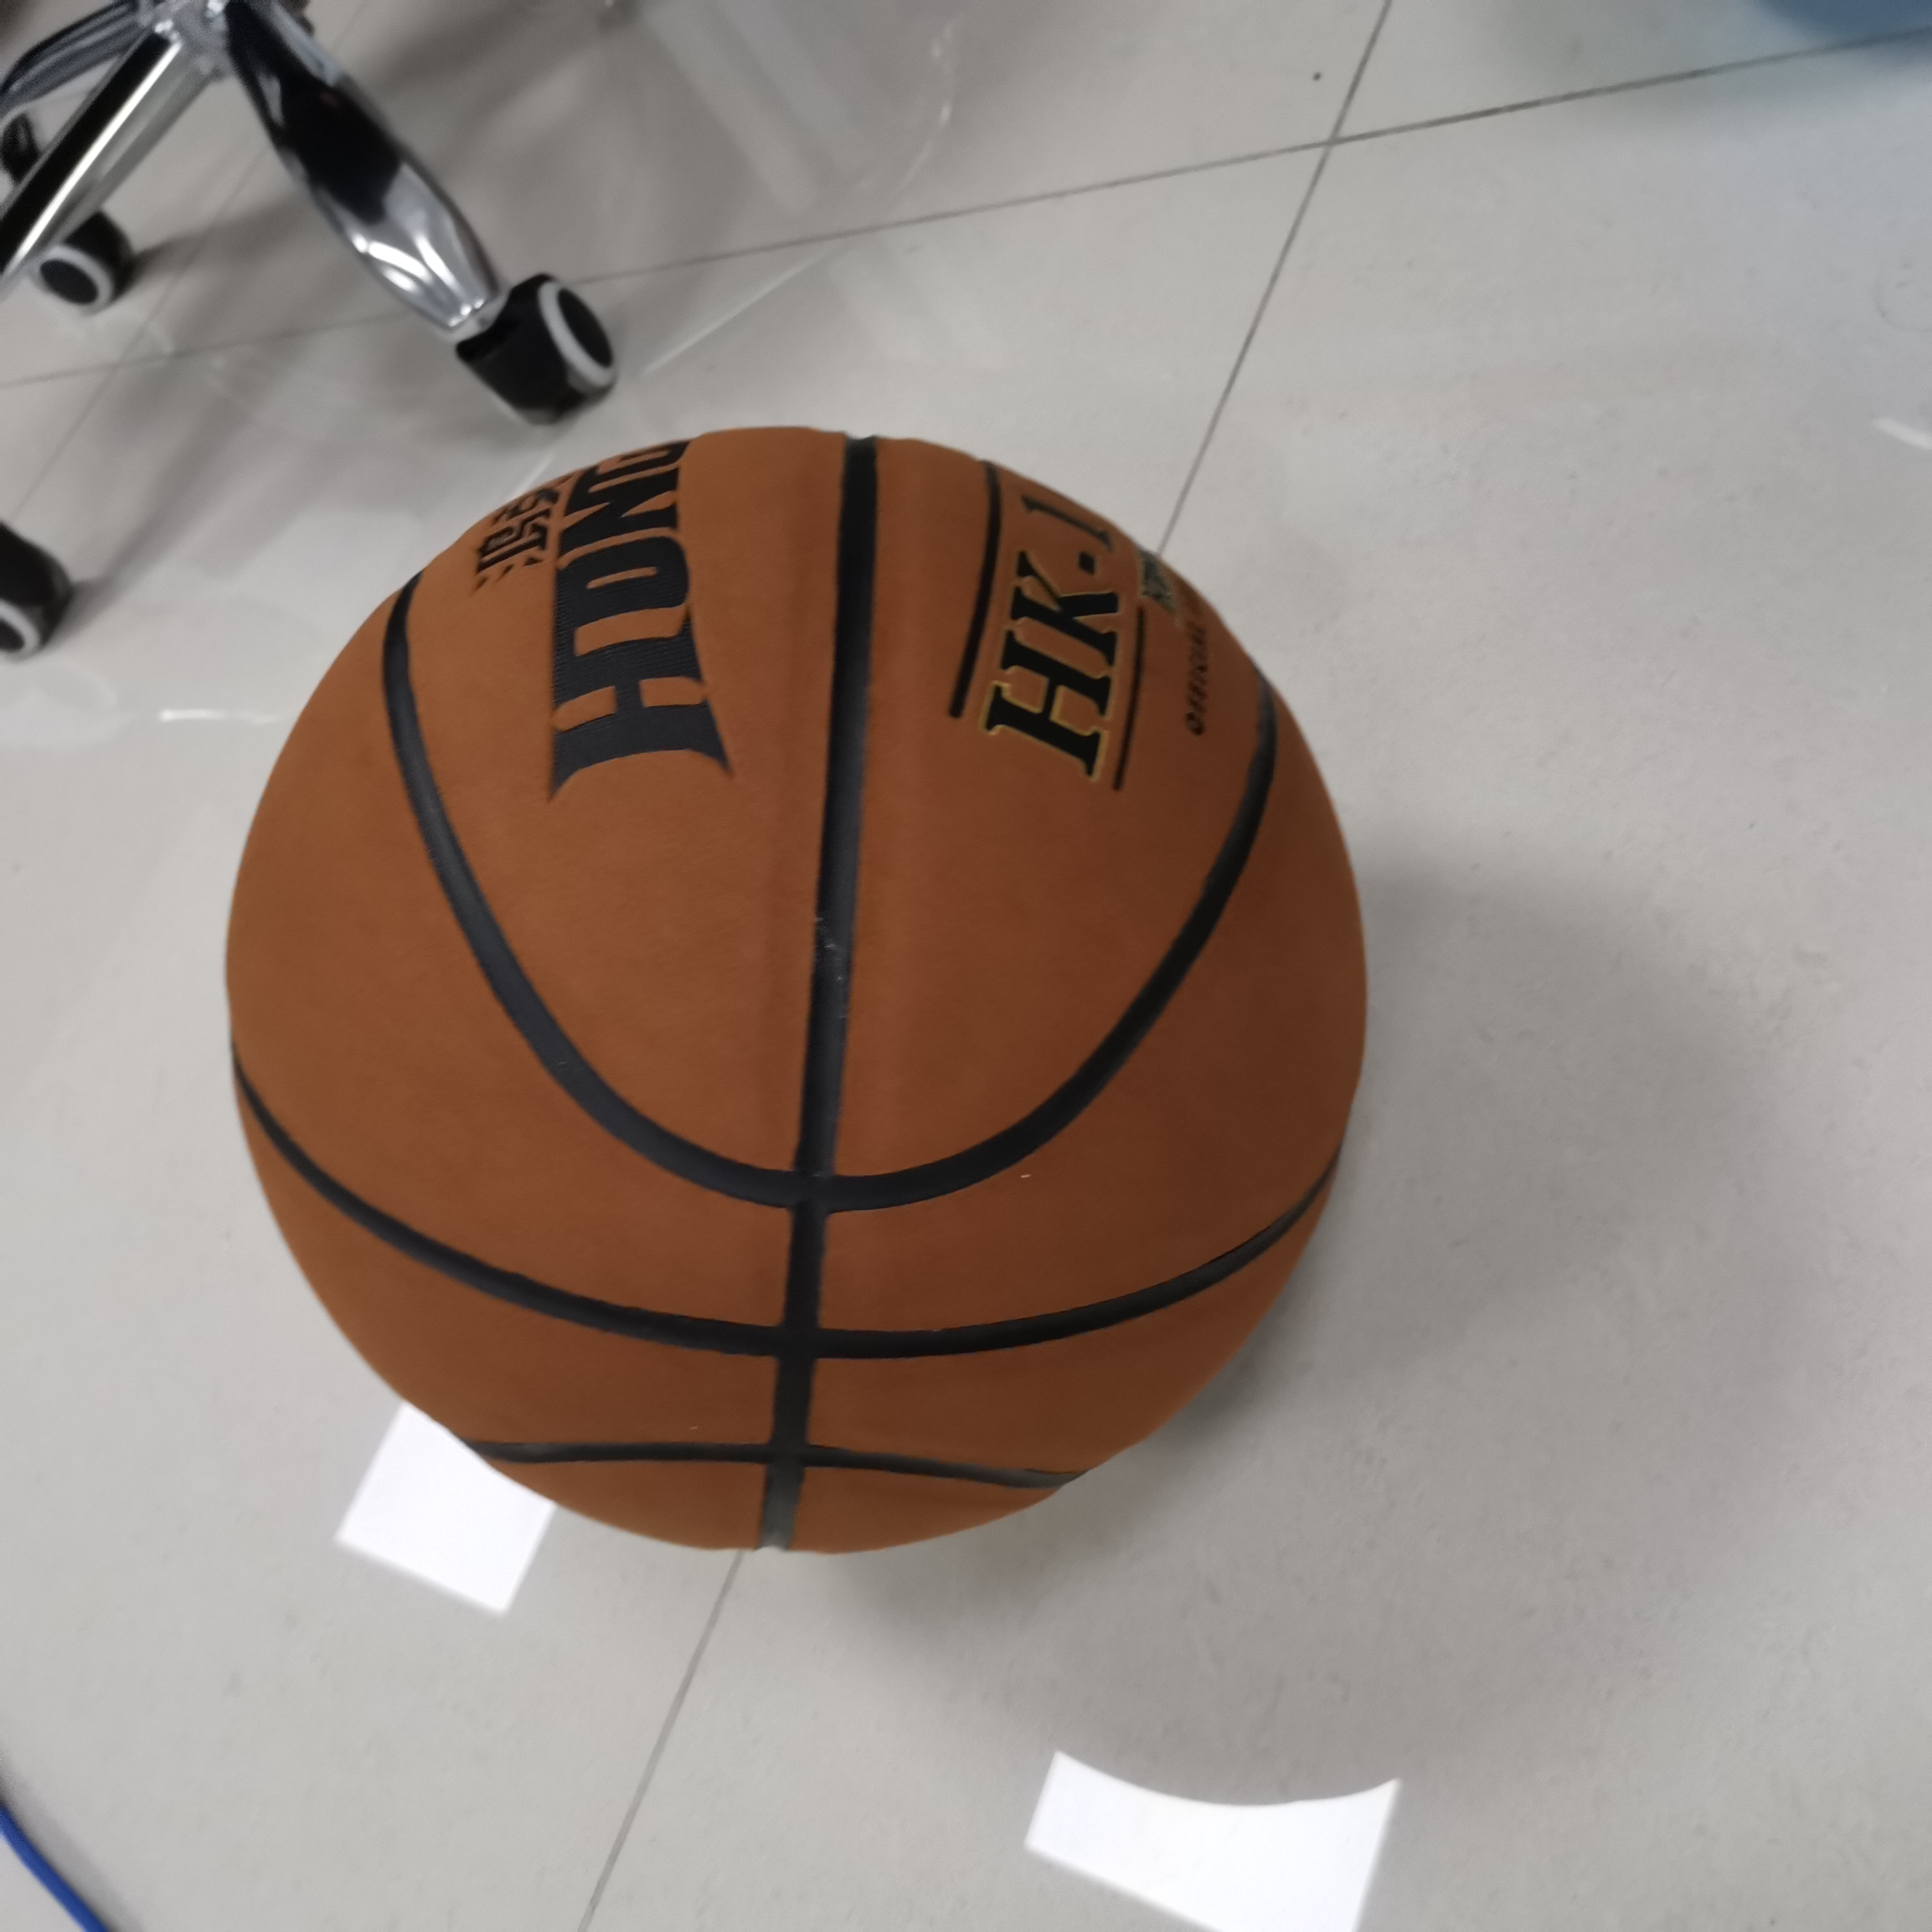basketball: (226, 426, 1361, 1564)
